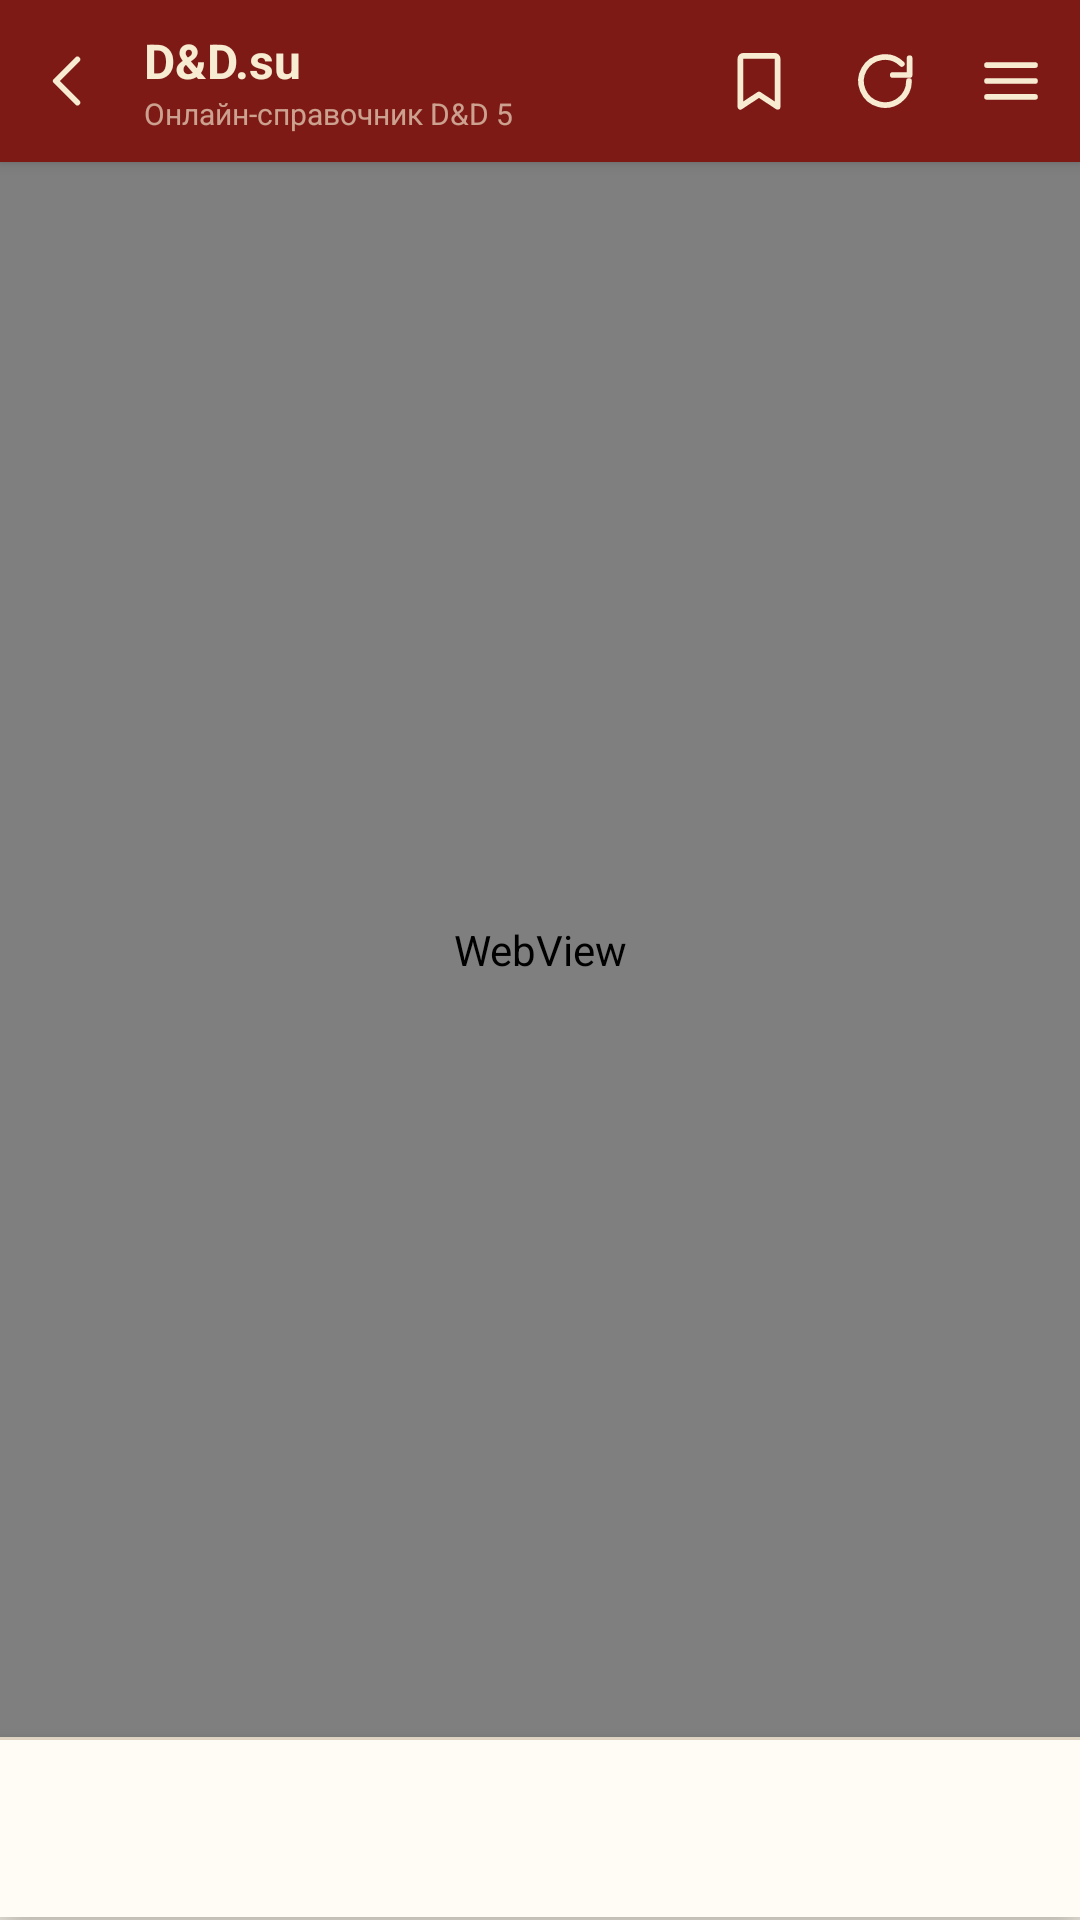

Screen size 1080 × 1920. Icon name, then its center in pixels as (x=x, y=y):
back: (x=66, y=81)
menu: (x=1011, y=81)
refresh: (x=885, y=81)
save: (x=759, y=81)
